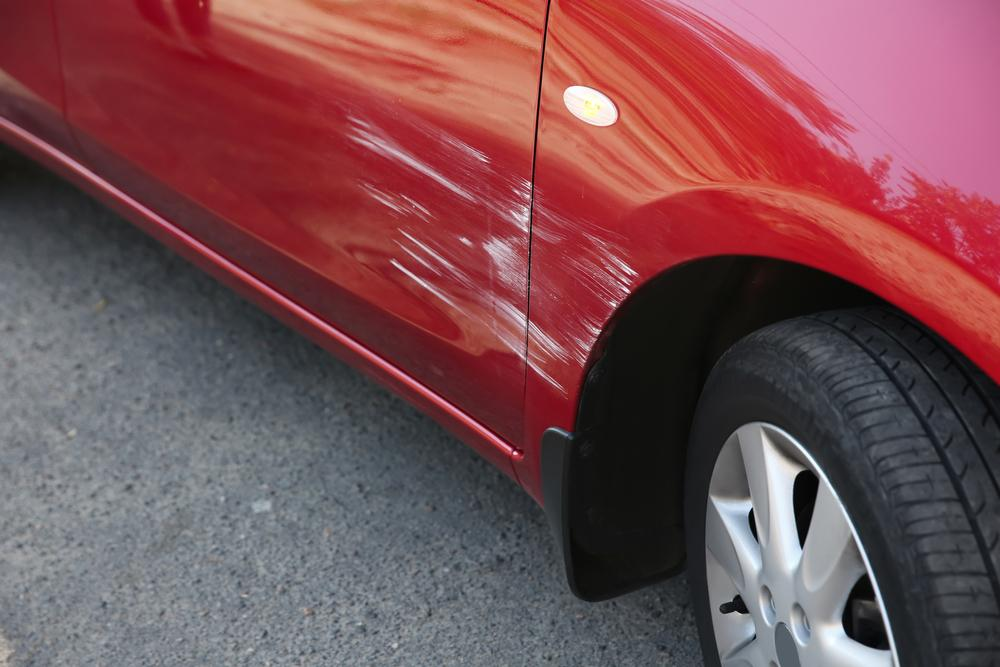scratch: (338, 105, 534, 362), (524, 179, 653, 404)
